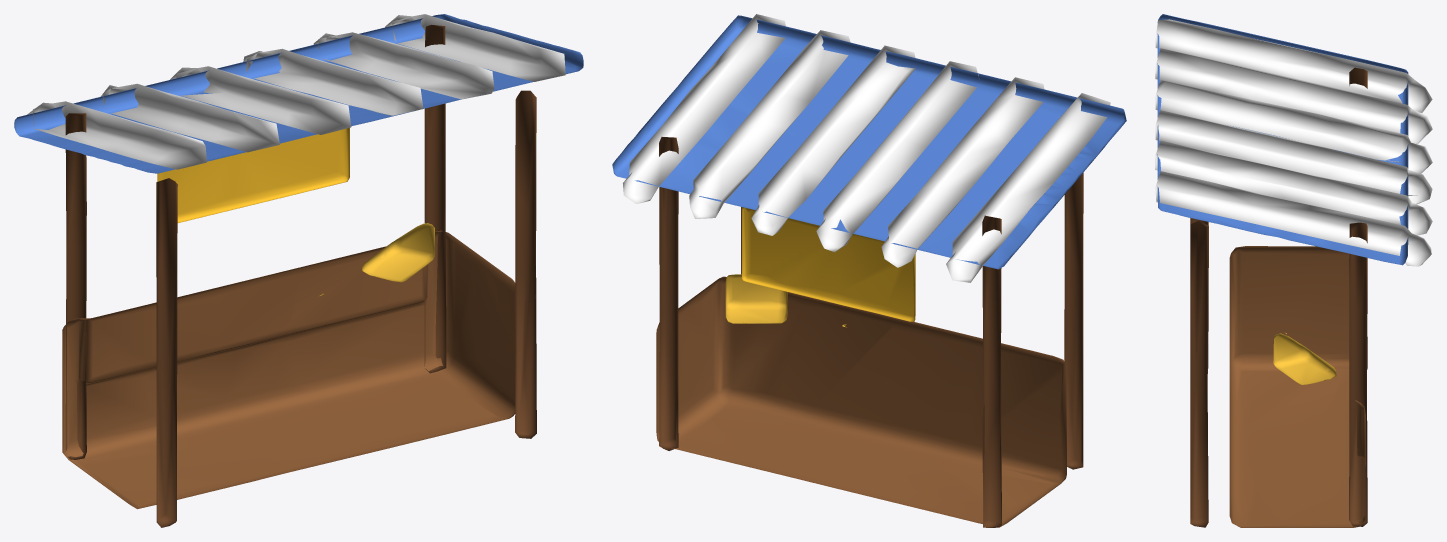
File: prop_class_stall.glb
The picture shows the model from 3 angles, left to right: view 1: azimuth 30°, elevation 25°; view 2: azimuth 150°, elevation 25°; view 3: azimuth 270°, elevation 25°; orthographic projection. The views are drawn at different scales.
Visible parts, largest first — view 1: body; view 2: body; view 3: body.
Boxes of the visible parts, box(x1,y1,x2,y2) form: body: box(14, 14, 583, 527); body: box(612, 14, 1126, 527); body: box(1155, 14, 1432, 527).
Size of the model in its own units: 5.8 by 5.07 by 3.67.
1 material, 1 textured.
